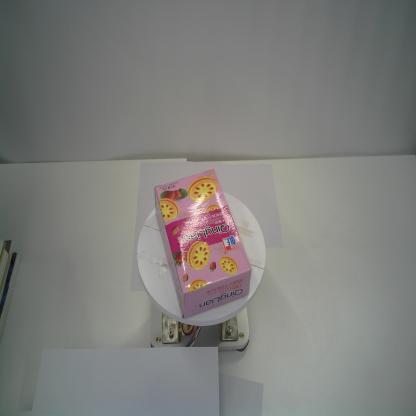Dessert: (154, 168, 252, 320)
